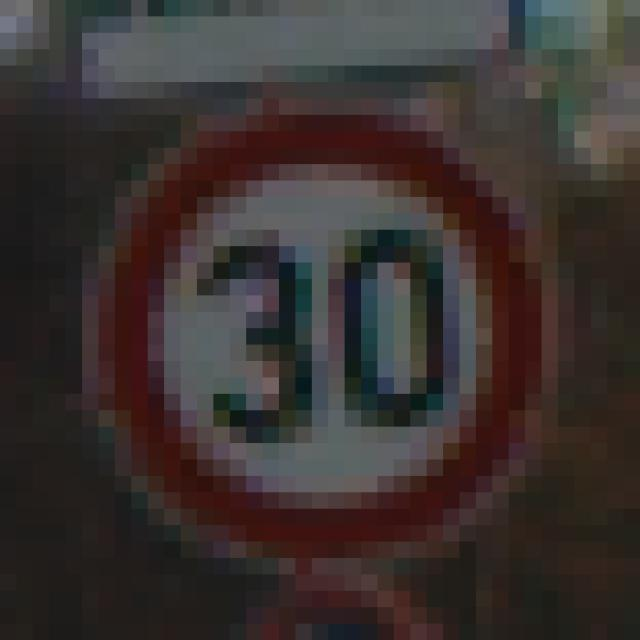Speed Limit -30-: (74, 74, 534, 550)
